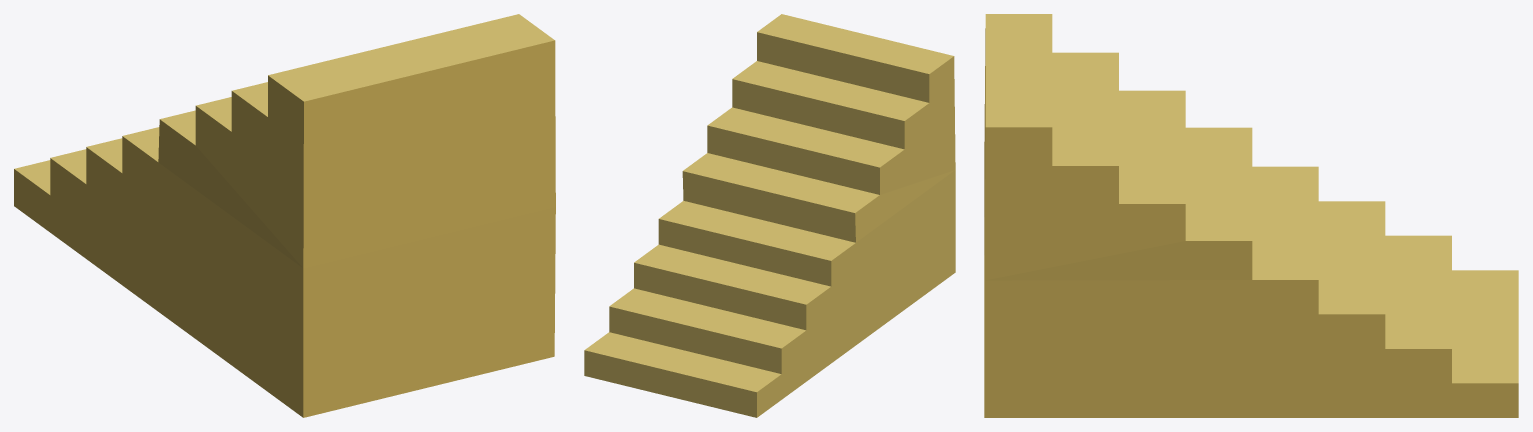
The model's file is squidgame_props_platform_stair2.fbx.
3 views of the same model, side by side, from view 1: azimuth 30°, elevation 25°; view 2: azimuth 150°, elevation 25°; view 3: azimuth 270°, elevation 25° (orthographic). The views are drawn at different scales.
Visible parts, largest first — view 1: squidgame_props_platform_stair2; view 2: squidgame_props_platform_stair2; view 3: squidgame_props_platform_stair2.
Boxes of the visible parts, box(x1,y1,x2,y2) form: squidgame_props_platform_stair2: box(14, 14, 555, 417); squidgame_props_platform_stair2: box(584, 14, 955, 417); squidgame_props_platform_stair2: box(984, 14, 1518, 417).
Size of the model in its own units: 1.51 by 1.8 by 2.99.
